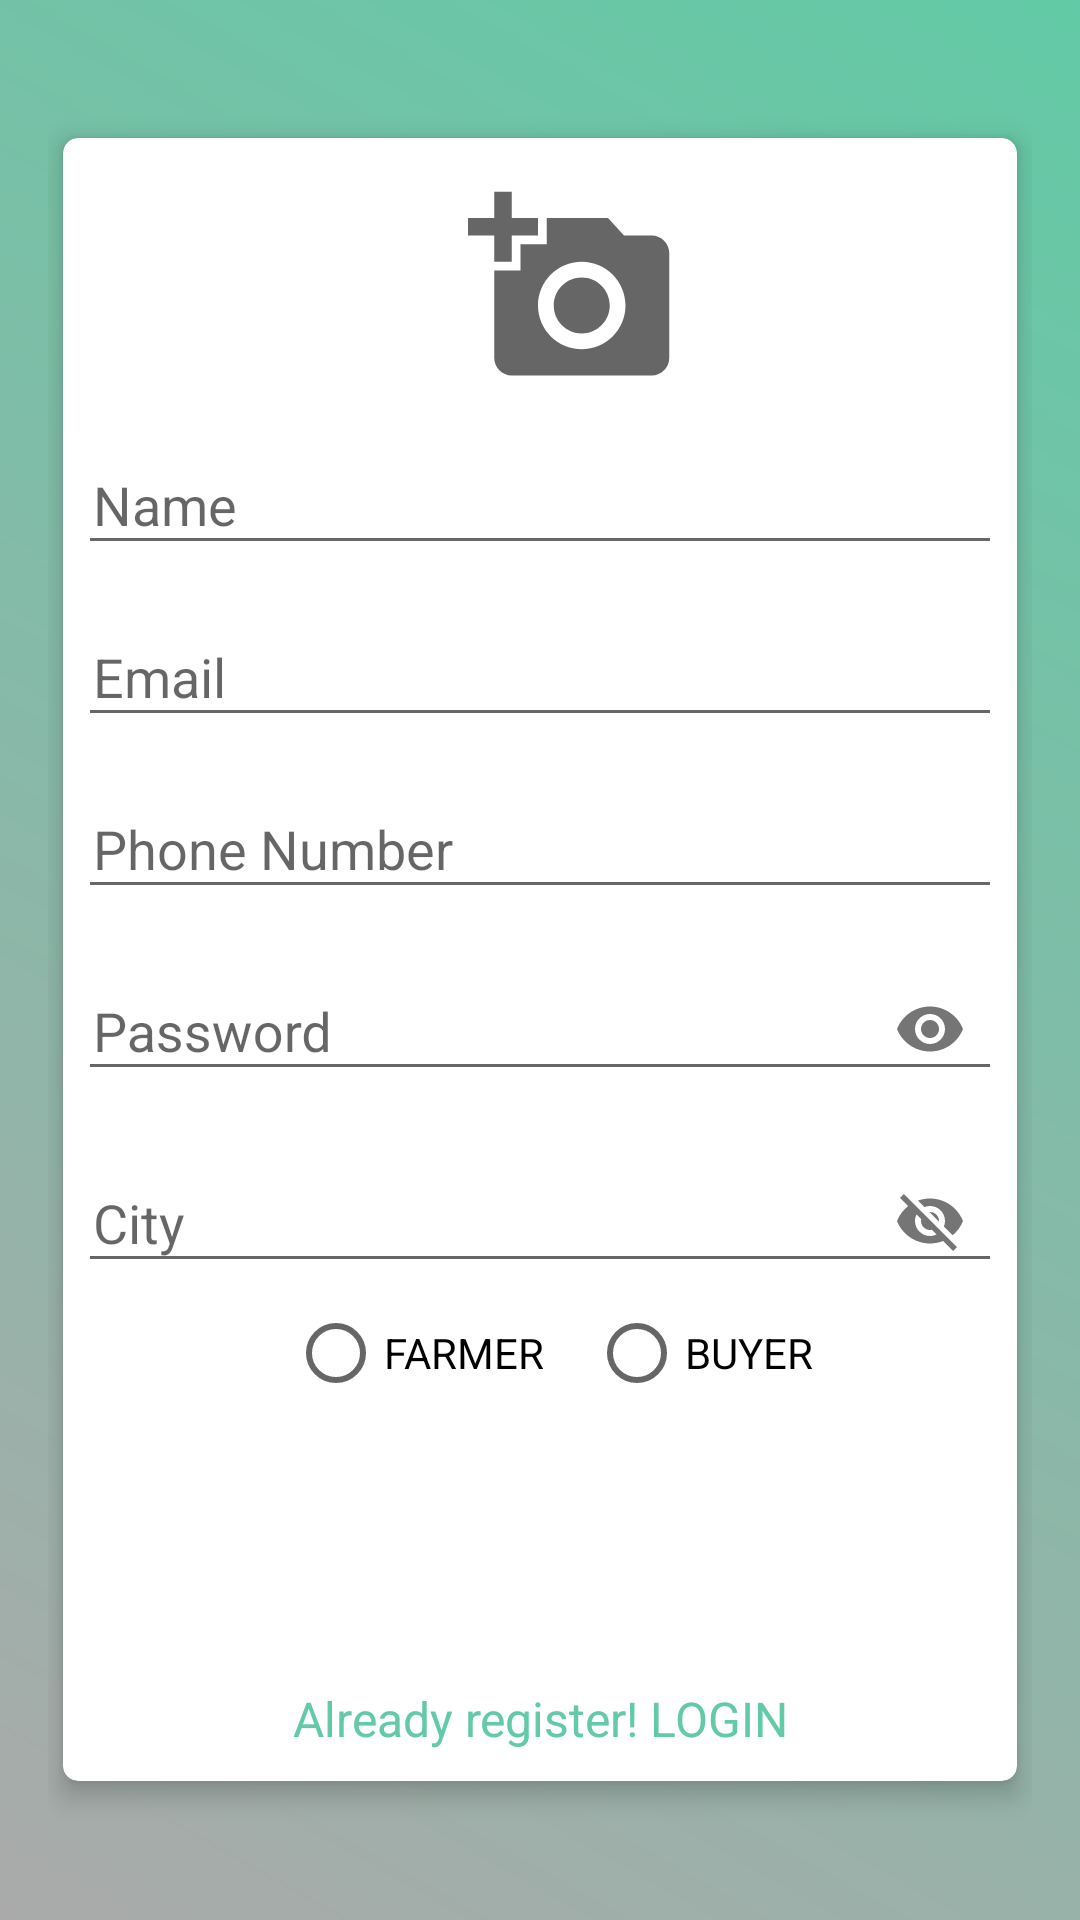

Where to tap for icons on this 1080px x 1920px app screen, as (x,y):
add photo: (569,283)
